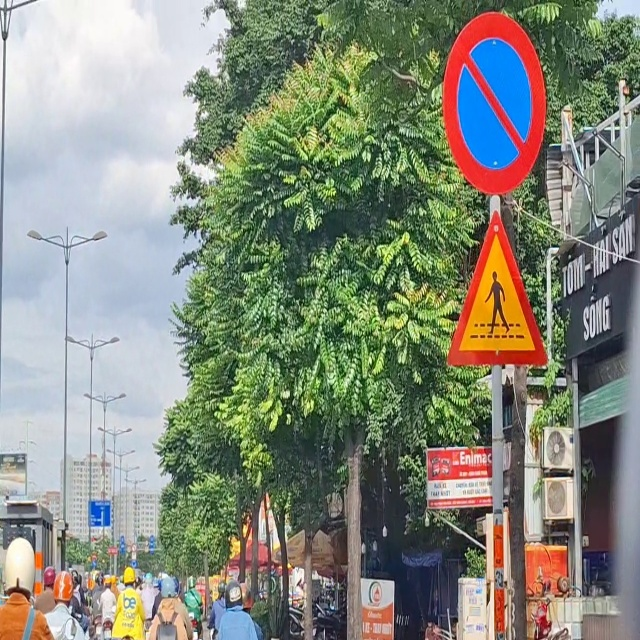cam do xe: (425, 12, 566, 205)
nguoi qua duong: (422, 212, 566, 389)
